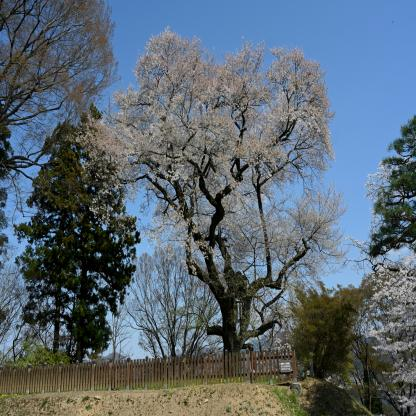EdohiganSakura: (71, 25, 354, 359)
